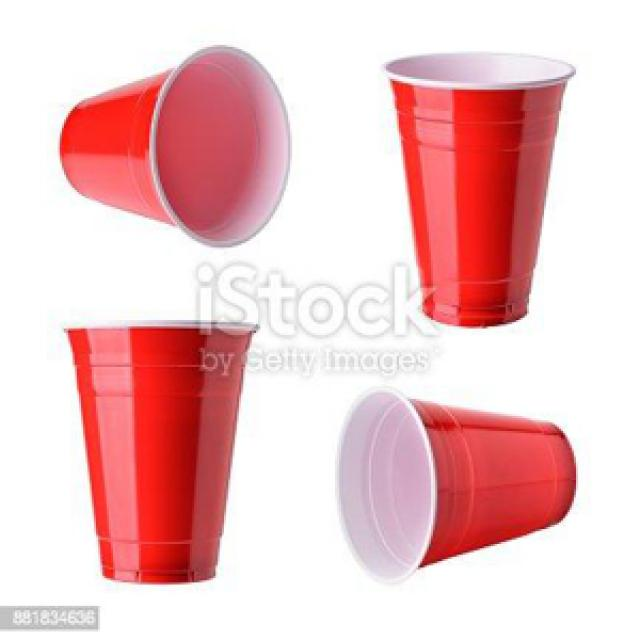plastic cup: (376, 47, 582, 333), (58, 314, 262, 586), (331, 380, 578, 589), (56, 40, 294, 254)
